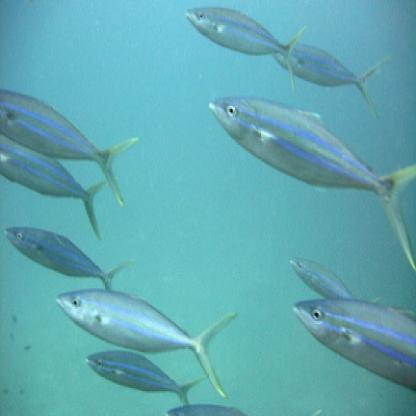Bio: (208, 84, 415, 276), (53, 278, 239, 398), (284, 291, 415, 399), (3, 216, 132, 298)
